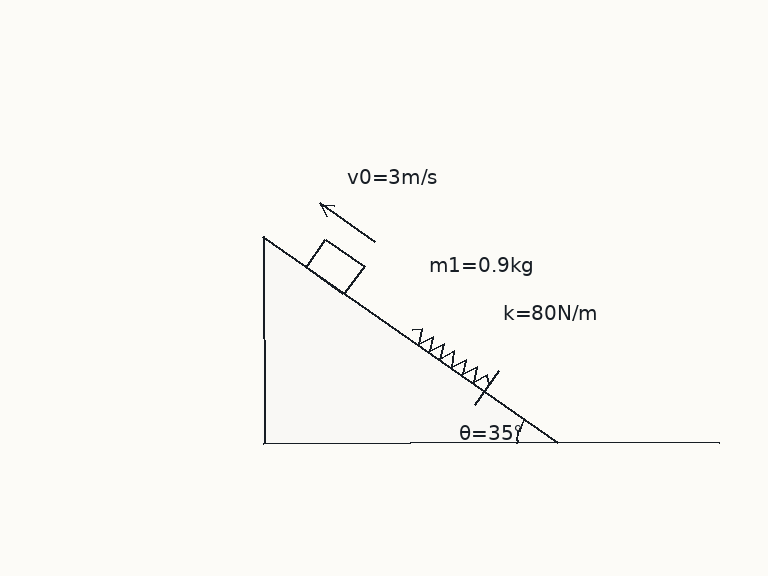block: (304, 237, 365, 296)
ramp: (261, 235, 559, 445)
spring: (410, 327, 491, 386)
